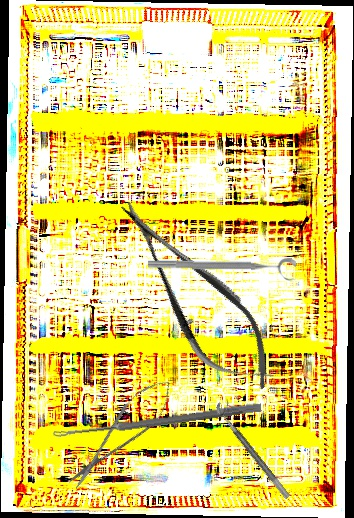Fixation Ring: (212, 397, 299, 500), (147, 255, 297, 283)
Micro Scissor: (100, 181, 292, 409), (59, 370, 182, 498)
Surgical Spoon: (52, 401, 262, 441)
